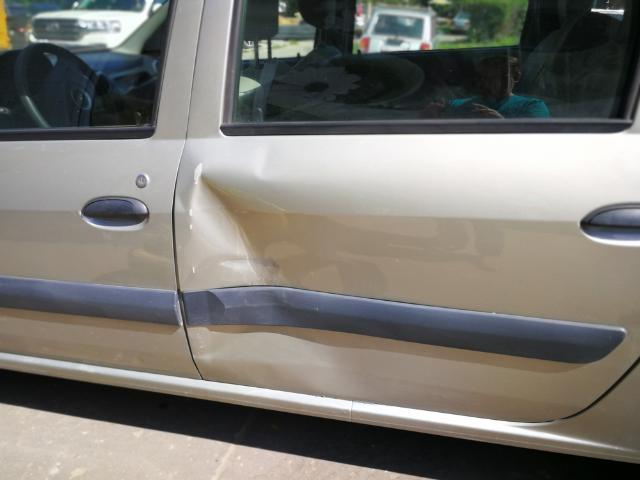dent: (183, 167, 399, 403), (252, 139, 285, 179)
